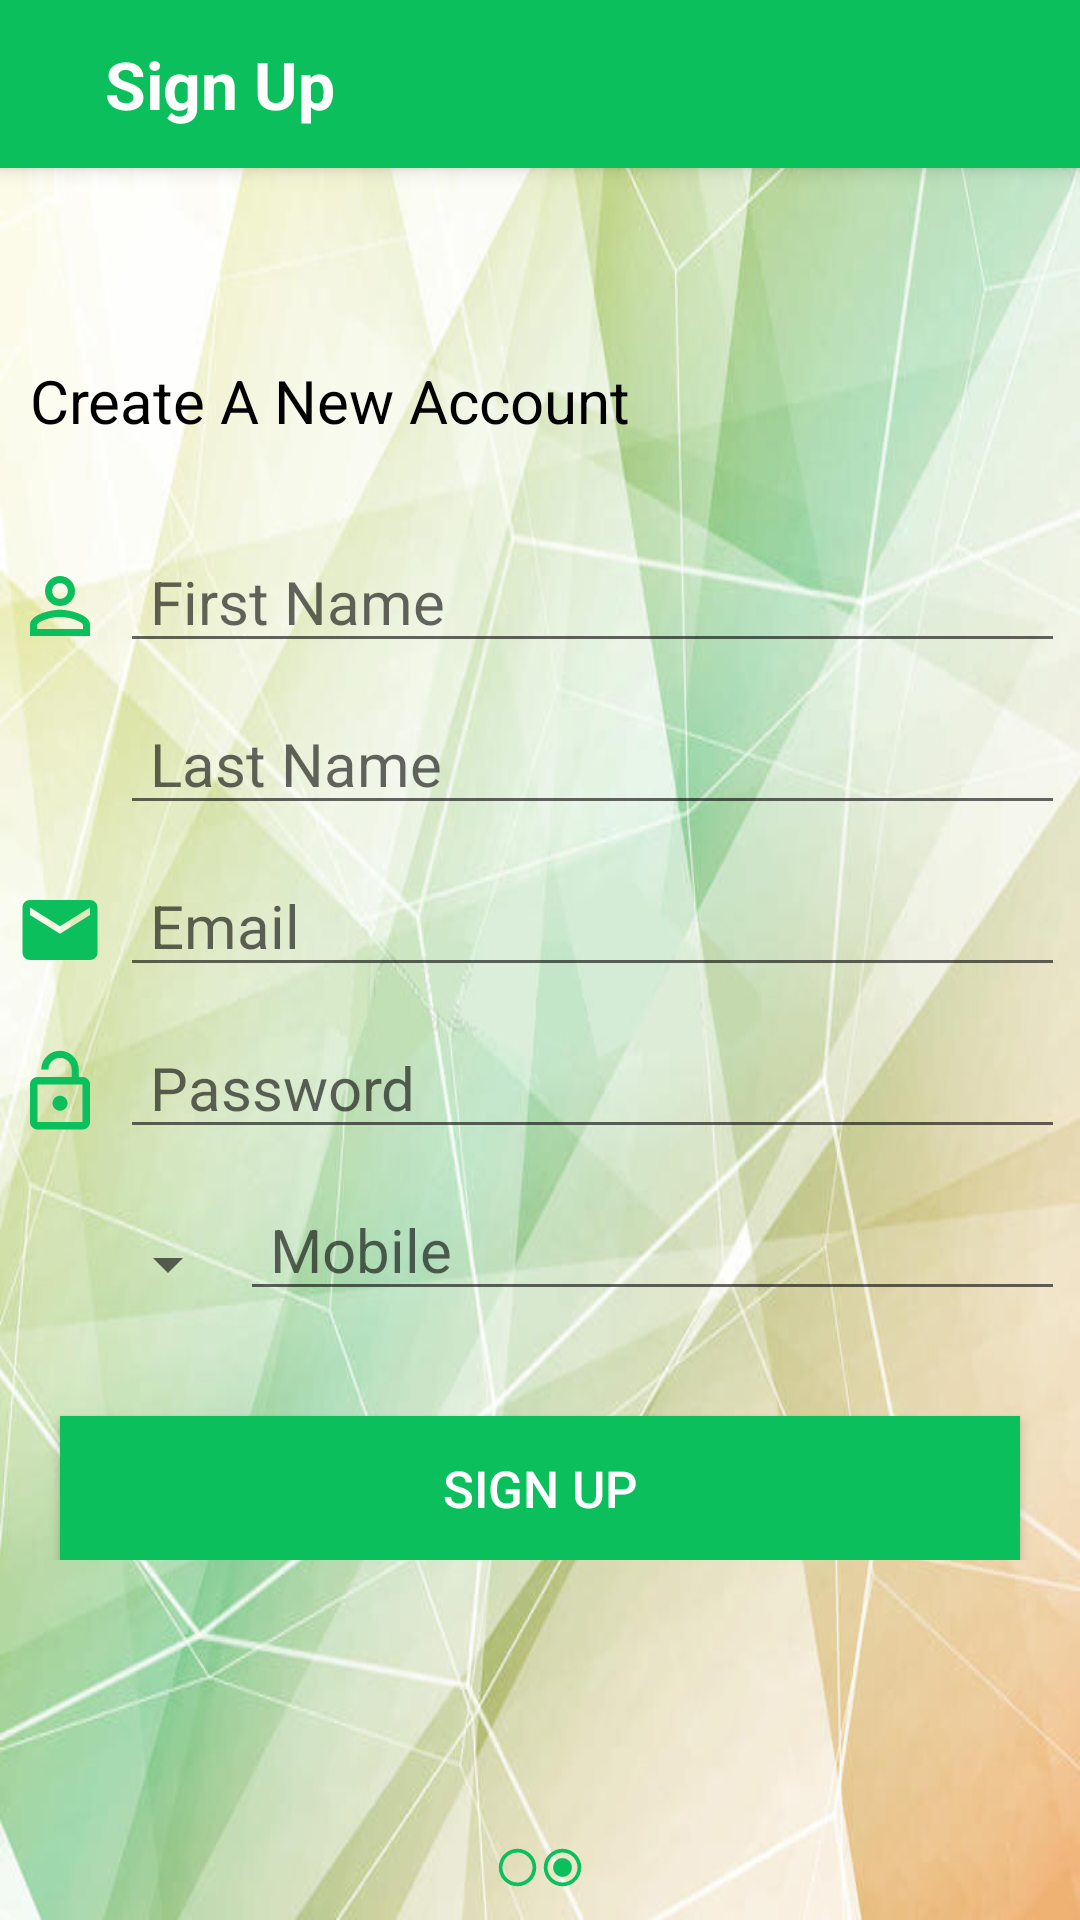

Icon click points for this 1080x1920 phone screenshot, format (x=x, y=y):
lock open: (x=60, y=1092)
person: (x=60, y=606)
radio checked: (x=562, y=1867)
radio unchecked: (x=517, y=1868)
